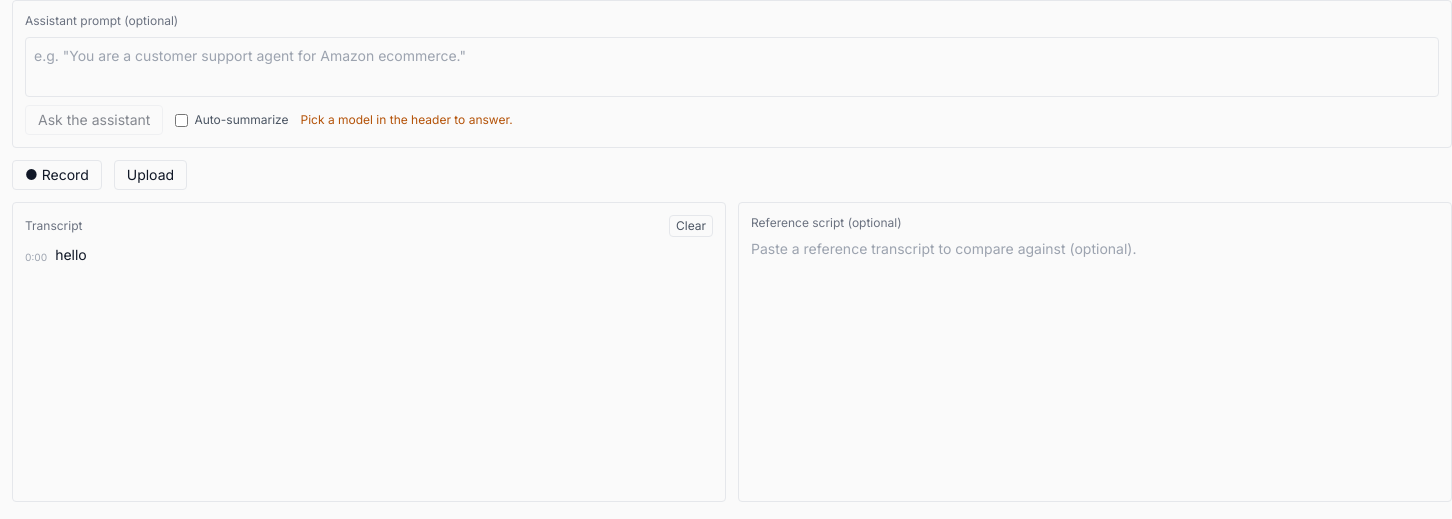
SttWorkspace › Clear empties the transcript segments
The image size is (1452, 519).
Check: the number of elements with test id "stt-segment" is 1, box top-left (25, 246), bottom-right (87, 263)
Click the button with test id "stt-transcript-clear": (691, 226) top-left (669, 215), bottom-right (713, 237)
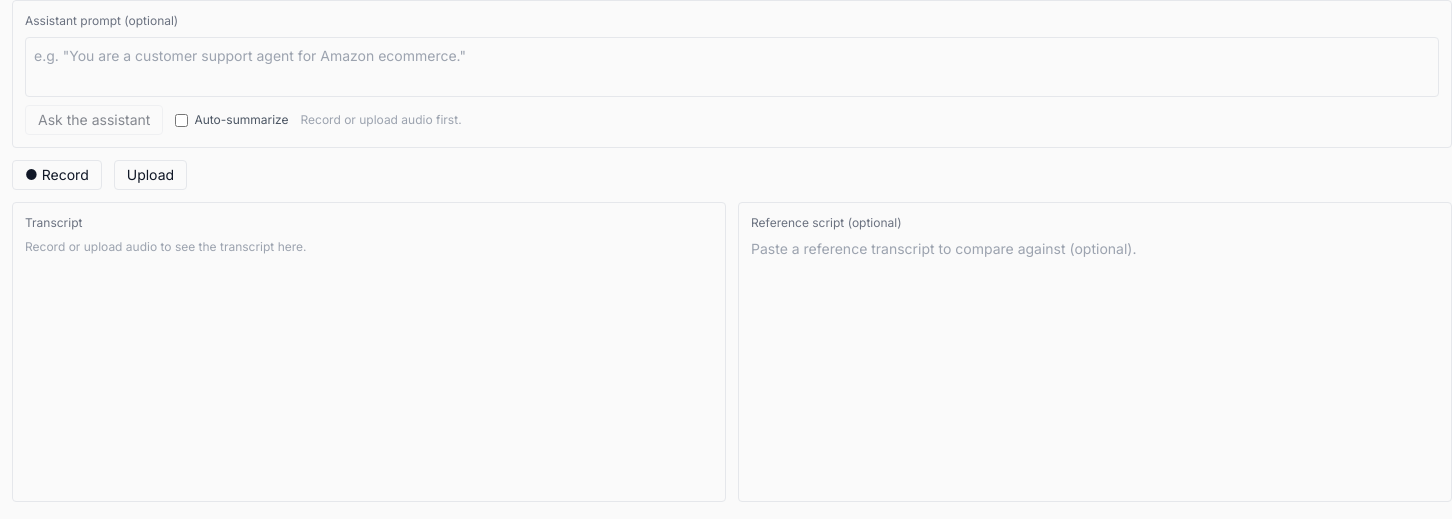
Check: the element with test id "stt-segment" is gone
